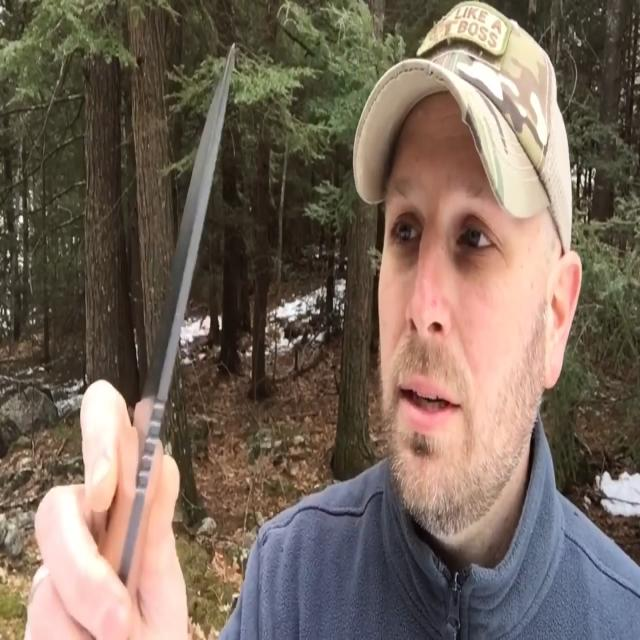knife: (107, 32, 237, 608)
